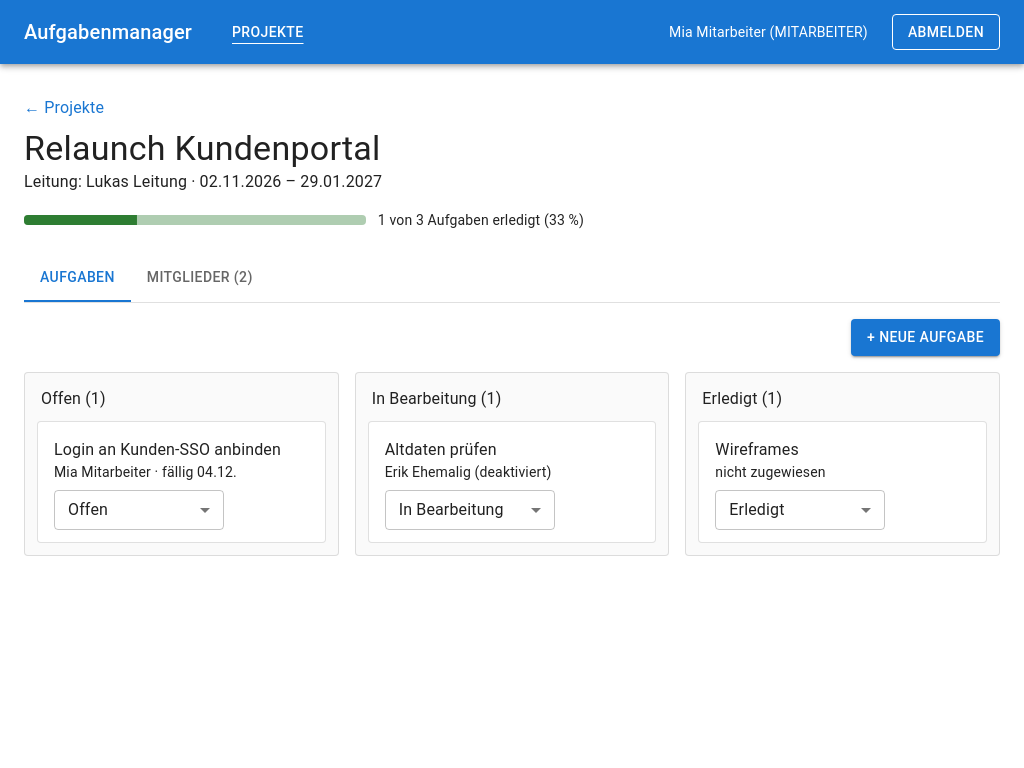
Projektdetail (wf_03, wf_04) › zeigt einen Konflikt (409) verständlich an
This screenshot has width=1024, height=768.
Click the dropdown named "Status von Login an Kunden-SSO anbinden": click(88, 510) top-left (68, 500), bottom-right (108, 519)
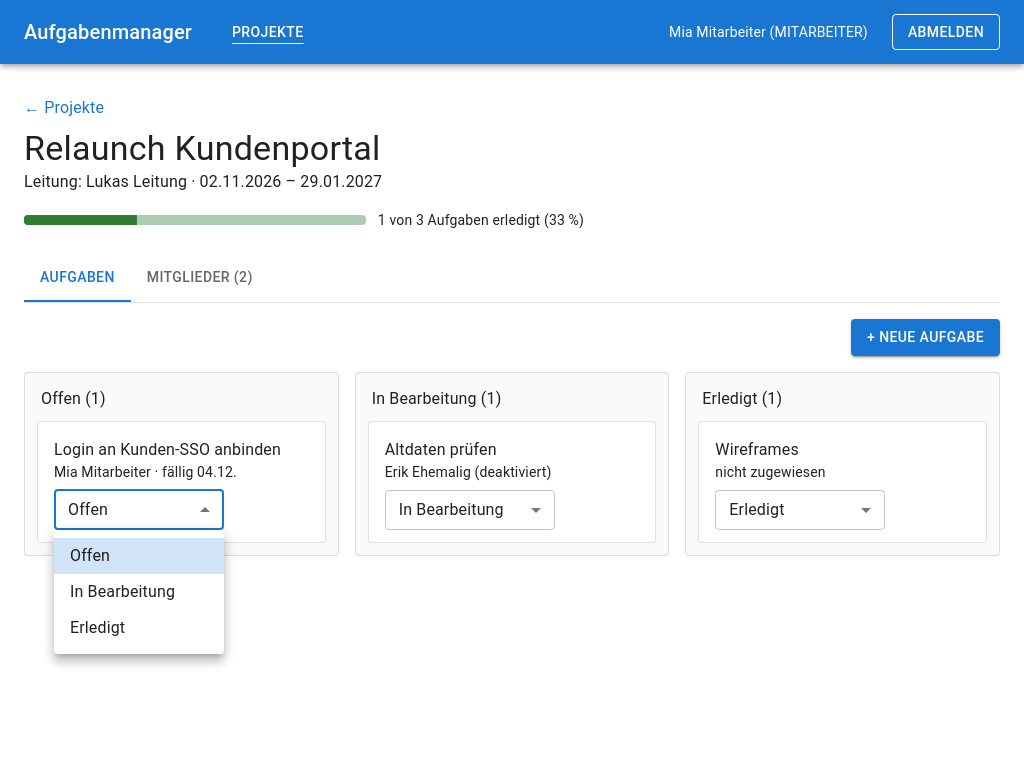
Click the option "In Bearbeitung": click(123, 592) top-left (70, 582), bottom-right (175, 601)
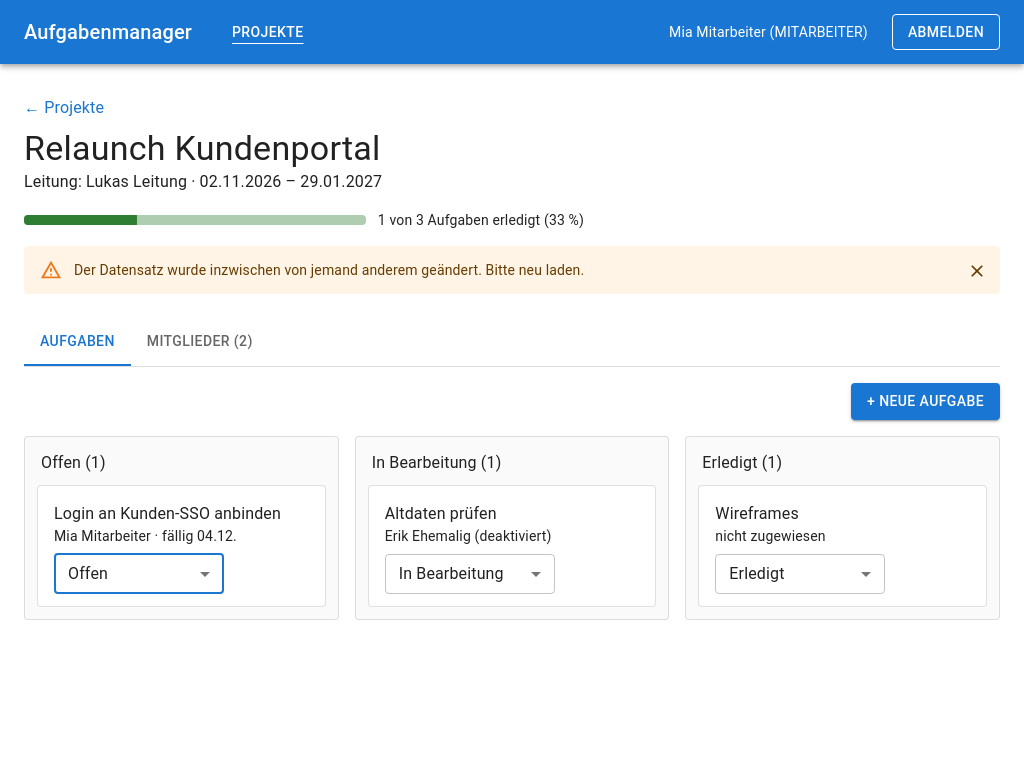
Expected: the text "inzwischen von jemand anderem geändert" is shown, top-left (74, 262), bottom-right (584, 278)
